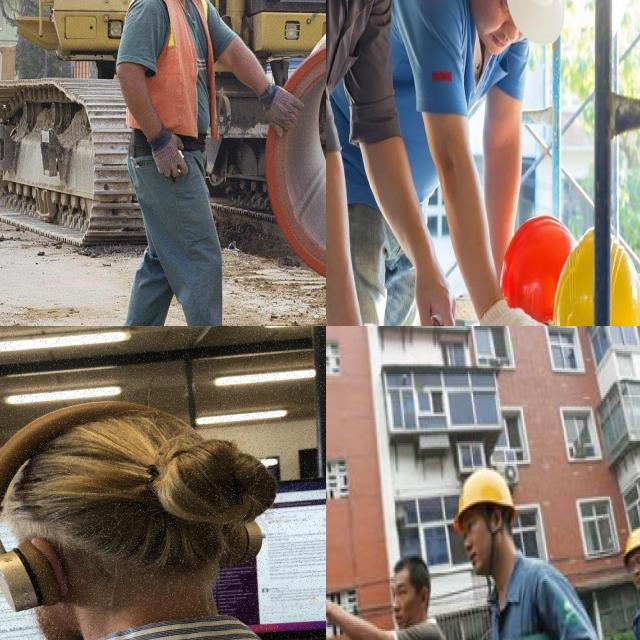Ear-protection: (0, 373, 307, 640)
No_Ear-Protection: (420, 587, 428, 608)
No_Glasses: (392, 583, 410, 598)
face_nomask: (392, 599, 423, 629)
hand_glove: (260, 73, 307, 139), (145, 128, 192, 181)
head_helmet: (454, 467, 516, 530), (627, 527, 640, 562)
head_nohelmet: (393, 555, 430, 593)
person: (109, 0, 248, 326)
vest: (125, 0, 221, 141)
